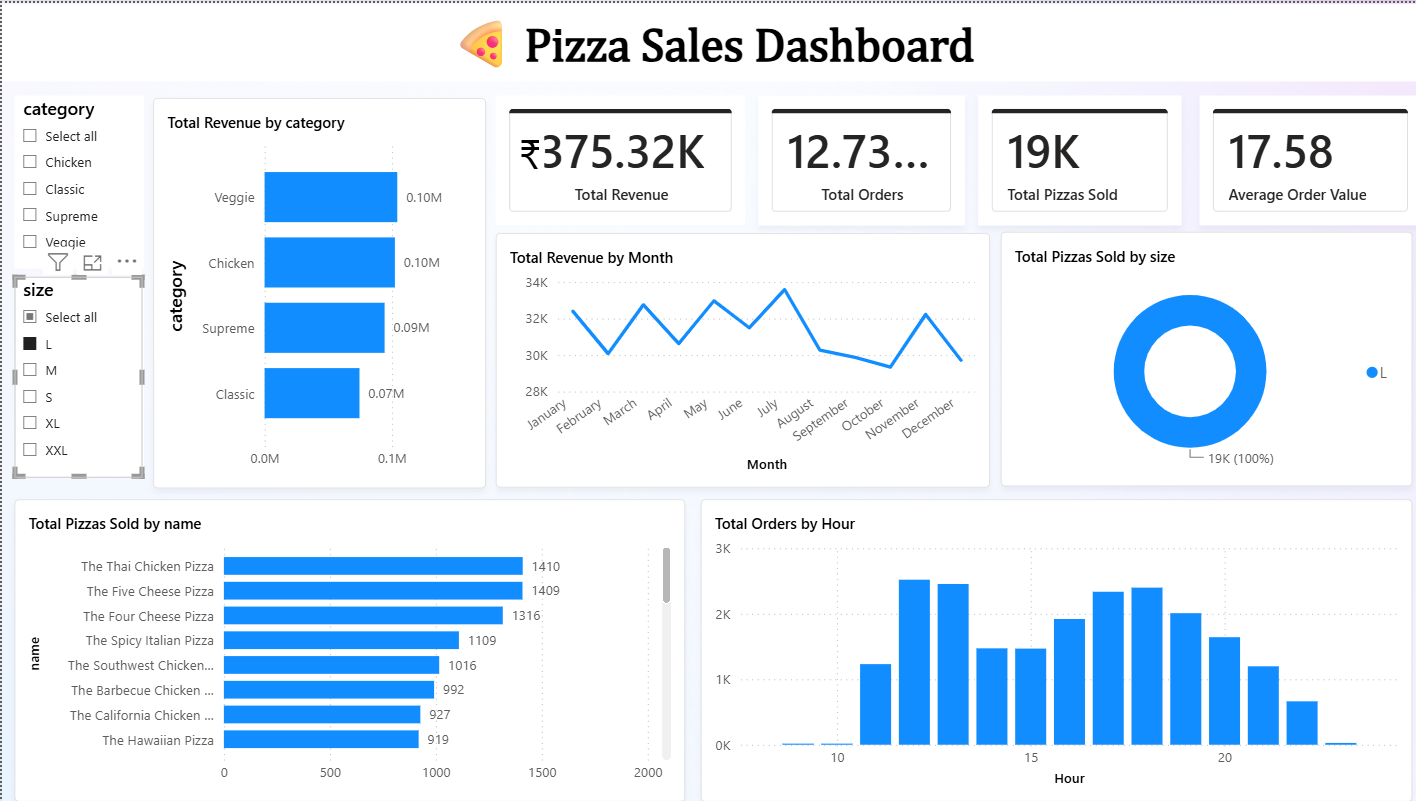

The page's visual inventory and layout, read from the dashboard file:
{"tool":"powerbi","page":{"name":"Page 1","canvas":[1280,720],"ordinal":0},"visuals":[{"type":"cardVisual","fields":{"Data":["Count(order_details.order_id)"]},"box":[682,82.9,186.1,117.7],"z":0},{"type":"cardVisual","fields":{"Data":["order_details.Total Revenue"]},"box":[445.5,82.9,225.7,117.7],"z":1000},{"type":"cardVisual","fields":{"Data":["order_details.Total Pizzas Sold"]},"box":[880.2,82.9,183.7,117.7],"z":2000},{"type":"cardVisual","fields":{"Data":["order_details.Average Order Value"]},"box":[1079.5,82.9,200.5,117.7],"z":3000},{"type":"barChart","fields":{"Category":["pizza_types.category"],"Y":["order_details.Total Revenue"]},"box":[136.4,85.7,299.8,351.7],"z":4000},{"type":"clusteredBarChart","fields":{"Category":["pizza_types.name"],"Y":["order_details.Total Pizzas Sold"]},"box":[10.8,447.9,605.2,272.6],"z":5000},{"type":"columnChart","fields":{"Category":["orders.Hour"],"Y":["order_details.Total Orders"]},"box":[630.1,447.5,641.3,272.8],"z":6000},{"type":"slicer","fields":{"Values":["pizza_types.category"]},"box":[10.8,82.9,116.5,156.1],"z":7000},{"type":"slicer","fields":{"Values":["pizzas.size"]},"box":[10.8,247.4,116.5,181.3],"z":8000},{"type":"donutChart","fields":{"Y":["order_details.Total Pizzas Sold"],"Category":["pizzas.size"]},"box":[900.6,206.3,370.8,229.9],"z":9000},{"type":"textbox","box":[0,1.2,1280,69.6],"z":10000},{"type":"textbox","box":[461,104.8,28.2,64.2],"z":11000},{"type":"lineChart","fields":{"Y":["order_details.Total Revenue"],"Category":["orders.date.Variation.Date Hierarchy.Month"]},"box":[445.5,207.7,445.5,229.3],"z":12000}]}

Visuals, with their boxes in screenshot pixels (x1, y1, x2, y2), scaled from the page's 1280x720 canvas onto the 1416x801 screenshot:
cardVisual - Count(order_details.order_id): [x1=754, y1=92, x2=960, y2=223]
cardVisual - order_details.Total Revenue: [x1=493, y1=92, x2=743, y2=223]
cardVisual - order_details.Total Pizzas Sold: [x1=974, y1=92, x2=1177, y2=223]
cardVisual - order_details.Average Order Value: [x1=1194, y1=92, x2=1415, y2=223]
barChart - pizza_types.category x order_details.Total Revenue: [x1=151, y1=95, x2=483, y2=487]
clusteredBarChart - pizza_types.name x order_details.Total Pizzas Sold: [x1=12, y1=498, x2=681, y2=800]
columnChart - orders.Hour x order_details.Total Orders: [x1=697, y1=498, x2=1406, y2=800]
slicer - pizza_types.category: [x1=12, y1=92, x2=141, y2=266]
slicer - pizzas.size: [x1=12, y1=275, x2=141, y2=477]
donutChart - order_details.Total Pizzas Sold x pizzas.size: [x1=996, y1=230, x2=1406, y2=485]
textbox: [x1=0, y1=1, x2=1415, y2=79]
textbox: [x1=510, y1=117, x2=541, y2=188]
lineChart - order_details.Total Revenue x orders.date.Variation.Date Hierarchy.Month: [x1=493, y1=231, x2=986, y2=486]
